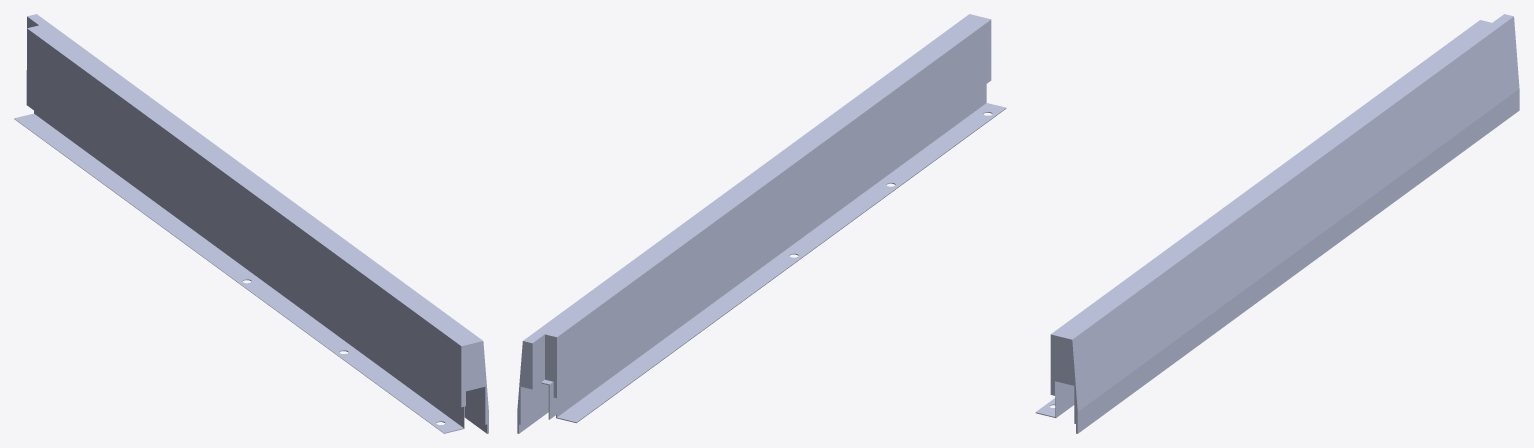
The model's file is mv-kava-N600-m.glb.
The picture shows the model from 3 angles, left to right: view 1: azimuth 30°, elevation 25°; view 2: azimuth 150°, elevation 25°; view 3: azimuth 330°, elevation 25°; orthographic projection.
Visible parts, largest first — view 1: 49892547; view 2: 49892547; view 3: 49892547.
Boxes of the visible parts, x1,y1,x2,y2 form: 49892547: (14,14,488,433); 49892547: (517,14,1006,433); 49892547: (1035,14,1519,433).
Bounding box in the file's own units: 0.0335 × 0.0685 × 0.5902.
